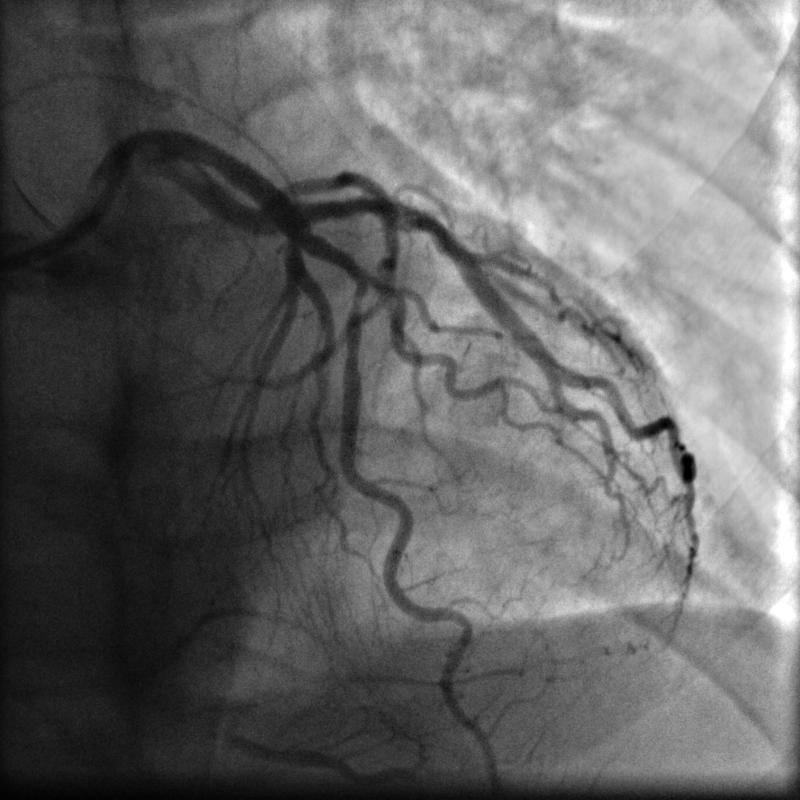Stenosis: (343, 275, 369, 343)
